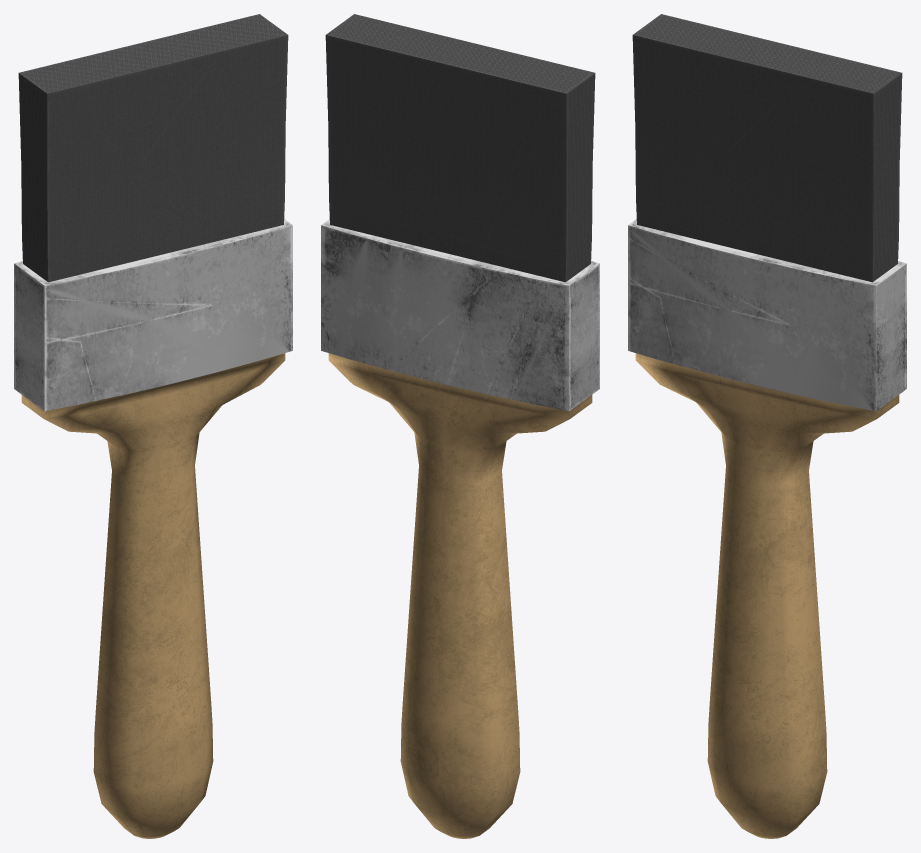
Rendered from paint_brush.obj.
3 renders of one model, left to right at view 1: azimuth 30°, elevation 25°; view 2: azimuth 150°, elevation 25°; view 3: azimuth 330°, elevation 25°, orthographic.
Visible parts, largest first — view 1: pCylinder51_Mesh.001; view 2: pCylinder51_Mesh.001; view 3: pCylinder51_Mesh.001.
Boxes of the visible parts, x1=… form: pCylinder51_Mesh.001: x1=14, y1=14, x2=292, y2=838; pCylinder51_Mesh.001: x1=321, y1=14, x2=599, y2=838; pCylinder51_Mesh.001: x1=628, y1=14, x2=906, y2=838.
Bounding box in the file's own units: 0.0847 × 0.2542 × 0.0267.
1 material, 1 textured.
